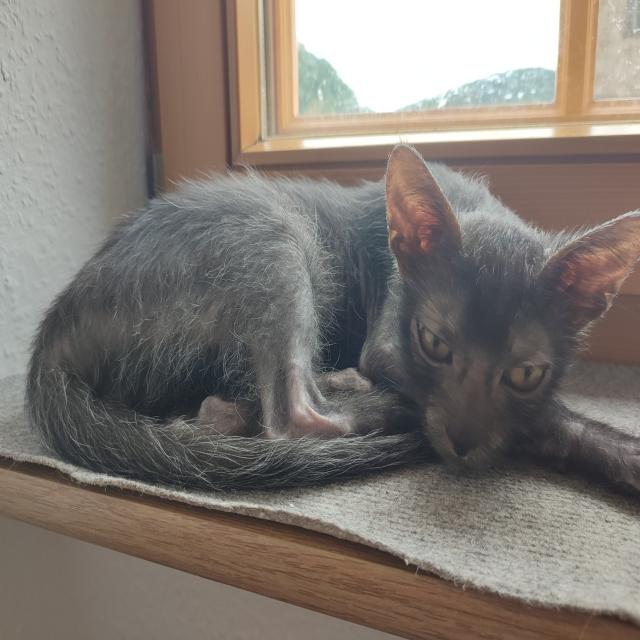Lykoi: (21, 136, 640, 515)
